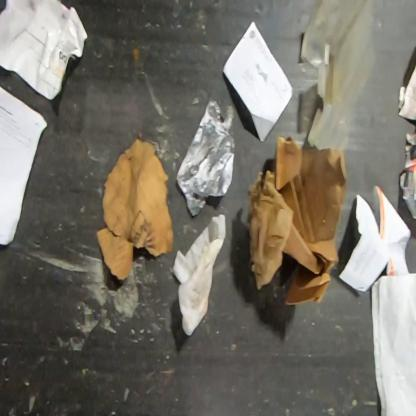cardboard: (247, 134, 349, 306), (95, 136, 175, 281), (221, 19, 296, 144), (174, 96, 236, 218), (337, 192, 393, 295)
rigid_plastic: (298, 0, 377, 155)
